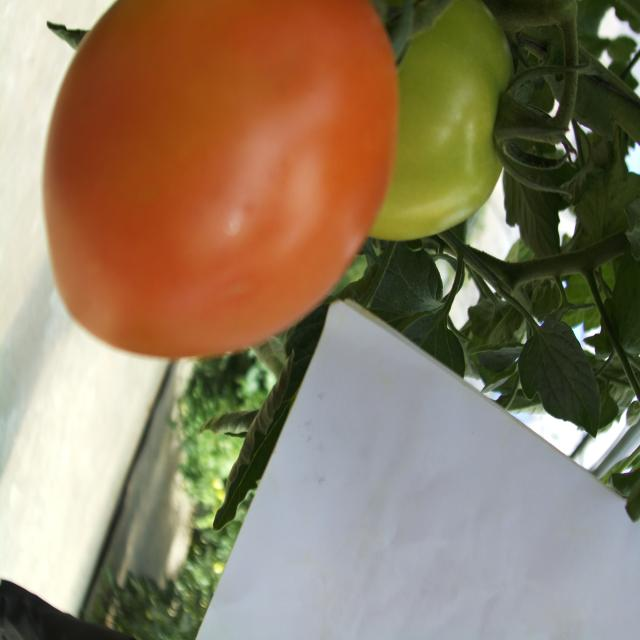kirmizi: (33, 0, 405, 349)
